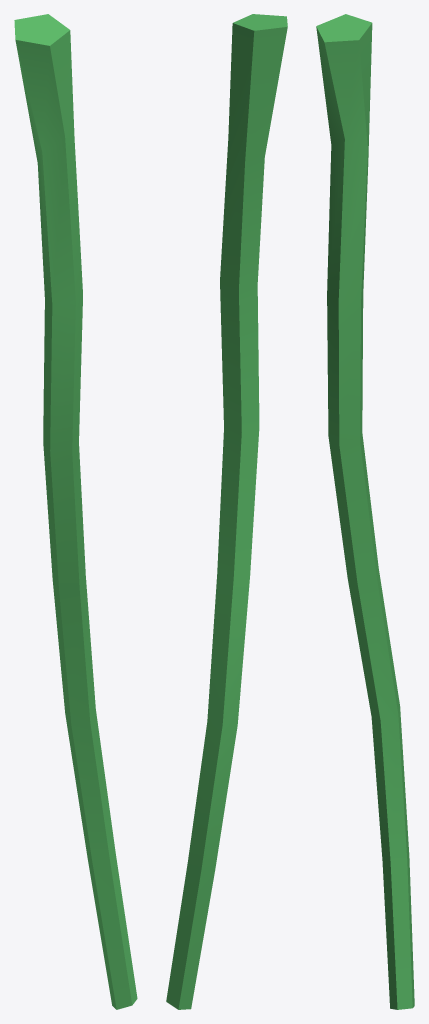
File: roots_solo_B_D.fbx
3 renders of one model, left to right at view 1: azimuth 30°, elevation 25°; view 2: azimuth 210°, elevation 25°; view 3: azimuth 330°, elevation 25°, orthographic. The views are drawn at different scales.
Visible parts, largest first — view 1: roots_solo_B_D; view 2: roots_solo_B_D; view 3: roots_solo_B_D.
Part boxes in pixels (x1,y1,x2,y2): roots_solo_B_D: (14,14,137,1009); roots_solo_B_D: (166,14,287,1009); roots_solo_B_D: (316,14,414,1009).
Size of the model in its own units: 16.51 by 141 by 8.88.
